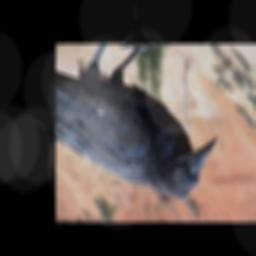Crow: (57, 44, 218, 203)
